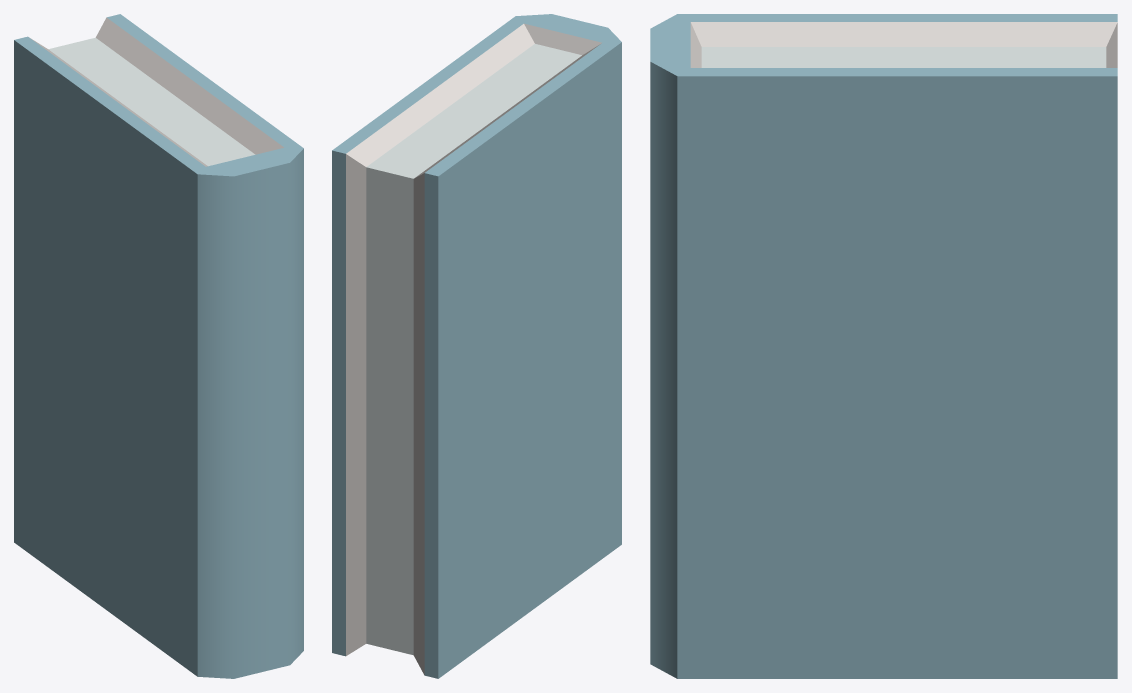
Rendered from book1.fbx.
3 renders of one model, left to right at view 1: azimuth 30°, elevation 25°; view 2: azimuth 150°, elevation 25°; view 3: azimuth 270°, elevation 25°, orthographic. The views are drawn at different scales.
Visible parts, largest first — view 1: book1; view 2: book1; view 3: book1.
Part boxes in pixels (x1,y1,x2,y2): book1: (14,14,303,678); book1: (332,14,621,678); book1: (650,14,1117,678).
Bounding box in the file's own units: 0.3662 × 1.65 × 1.16.
1 material, 1 textured.
